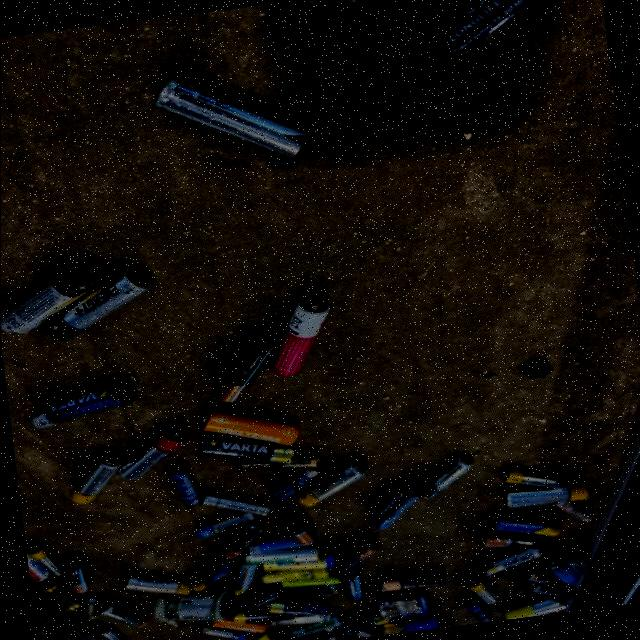AA: (154, 76, 312, 160)
